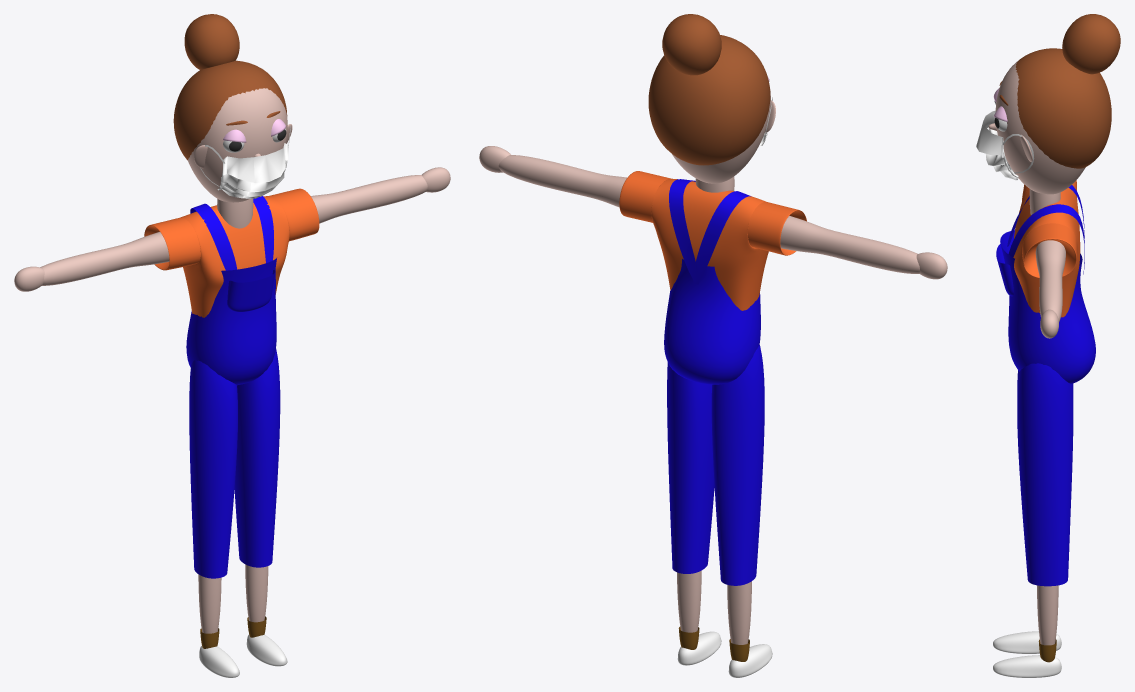
File: FlighAttendant.fbx
The picture shows the model from 3 angles, left to right: view 1: azimuth 30°, elevation 25°; view 2: azimuth 150°, elevation 25°; view 3: azimuth 270°, elevation 25°; orthographic projection. The views are drawn at different scales.
Visible parts, largest first — view 1: Cube.028, Cube.027, Cube.029, Cube.018, Cube.014, Cube.008, Plane.001, Cube.017, Cube.022, Cube.023, Cube.021, Cube.025 (+2 smaller); view 2: Cube.028, Cube.008, Cube.027, Cube.029, Cube.018, Cube.017, Cube.023, Cube.022, Cube.021, Cube.014, Cube.020, Cube.019; view 3: Cube.028, Cube.008, Cube.029, Cube.027, Cube.014, Cube.017, Cube.021, Cube.018, Plane.001, Cube.022, Cube.023, Cube (+3 smaller).
Boxes of the visible parts, bbox=[...] form: Cube.028: bbox=[189, 349, 280, 578]; Cube.027: bbox=[144, 188, 319, 317]; Cube.029: bbox=[186, 258, 276, 385]; Cube.018: bbox=[40, 175, 427, 285]; Cube.014: bbox=[187, 88, 287, 202]; Cube.008: bbox=[173, 60, 287, 160]; Plane.001: bbox=[217, 143, 288, 198]; Cube.017: bbox=[184, 14, 239, 69]; Cube.022: bbox=[198, 564, 268, 633]; Cube.023: bbox=[190, 196, 273, 270]; Cube.021: bbox=[199, 634, 287, 677]; Cube.025: bbox=[227, 270, 275, 312]; Cube.028: bbox=[667, 345, 764, 585]; Cube.008: bbox=[648, 35, 770, 165]; Cube.027: bbox=[619, 171, 806, 310]; Cube.029: bbox=[664, 259, 760, 384]; Cube.018: bbox=[498, 155, 919, 273]; Cube.017: bbox=[662, 14, 721, 75]; Cube.023: bbox=[669, 179, 750, 284]; Cube.022: bbox=[677, 570, 751, 644]; Cube.021: bbox=[677, 631, 772, 677]; Cube.014: bbox=[672, 86, 770, 183]; Cube.020: bbox=[479, 146, 947, 279]; Cube.019: bbox=[678, 626, 749, 661]; Cube.028: bbox=[1017, 363, 1073, 586]; Cube.008: bbox=[1015, 48, 1111, 168]; Cube.029: bbox=[1000, 230, 1095, 383]; Cube.027: bbox=[1013, 180, 1080, 317]; Cube.014: bbox=[995, 61, 1085, 194]; Cube.017: bbox=[1062, 14, 1120, 74]; Cube.021: bbox=[993, 631, 1061, 677]; Cube.018: bbox=[1035, 240, 1065, 321]; Plane.001: bbox=[976, 110, 1018, 180]; Cube.022: bbox=[1037, 585, 1058, 645]; Cube.023: bbox=[1007, 185, 1084, 274]; Cube: bbox=[1029, 189, 1060, 214].
Size of the model in its own units: 548 by 752 by 153.
